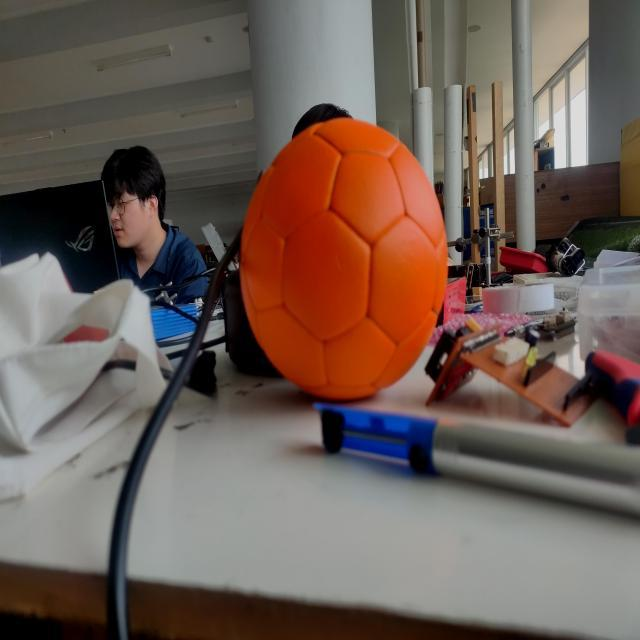bola: (216, 108, 474, 406)
